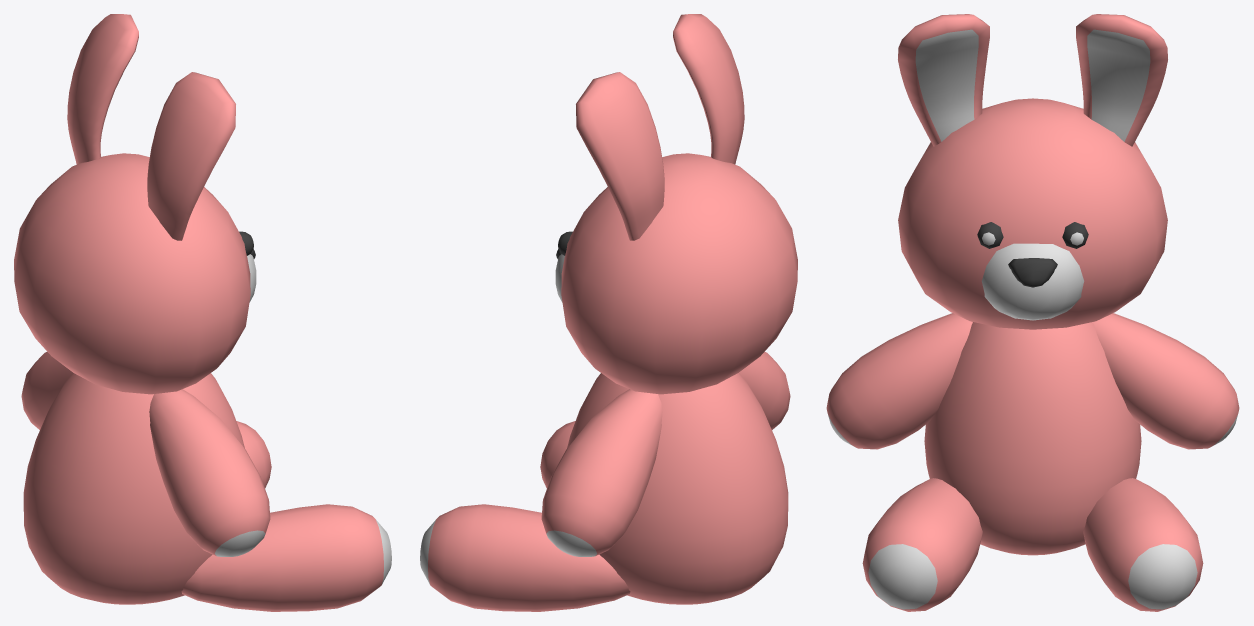
Rendered from Bunny.fbx.
The picture shows the model from 3 angles, left to right: view 1: azimuth 30°, elevation 25°; view 2: azimuth 150°, elevation 25°; view 3: azimuth 270°, elevation 25°; orthographic projection.
Parts seen in each view (by area): view 1: Bunny; view 2: Bunny; view 3: Bunny.
Boxes of the visible parts, box(x1,y1,x2,y2) form: Bunny: box(14, 14, 391, 611); Bunny: box(420, 14, 797, 611); Bunny: box(826, 14, 1239, 611).
Bounding box in the file's own units: 35.94 × 63.25 × 43.92.
